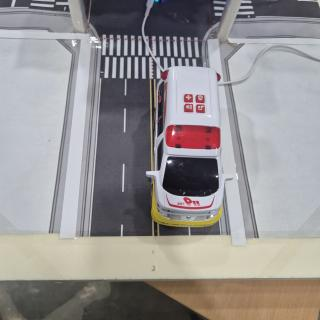Ambulance: (146, 66, 233, 227)
